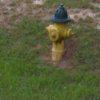Hydrant: (43, 2, 84, 68)
